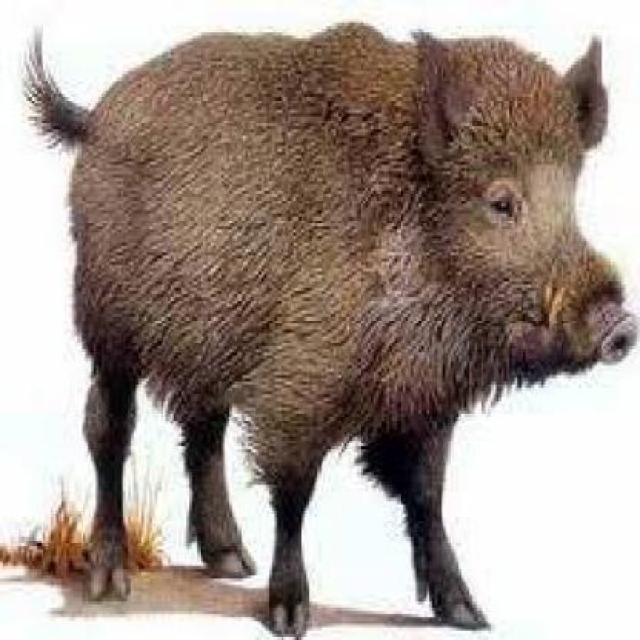wildboar: (12, 9, 640, 638)
